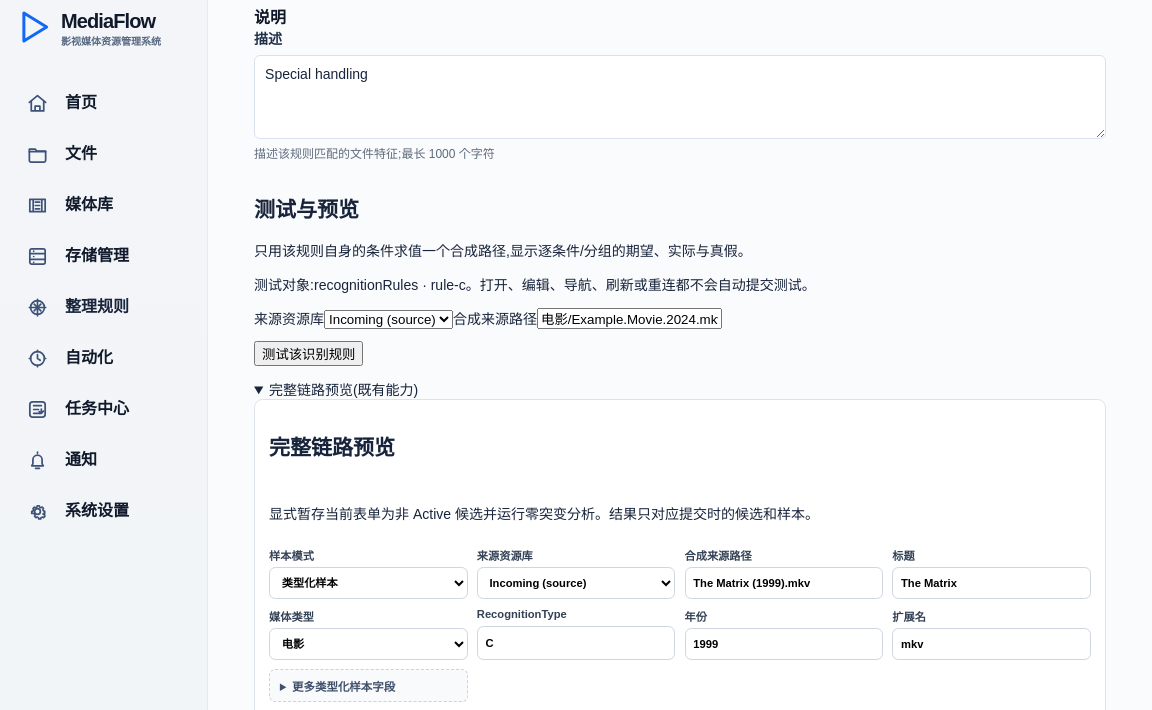
Test: Rules object-scoped local test › tests only the exact unsaved candidate and renders the condition trace
(page scrolled)
expect the heading "测试与预览" is shown: met, box [254,198,359,221]
Click the button "测试该识别规则": point(309, 354) [254,341,363,366]
(page scrolled)
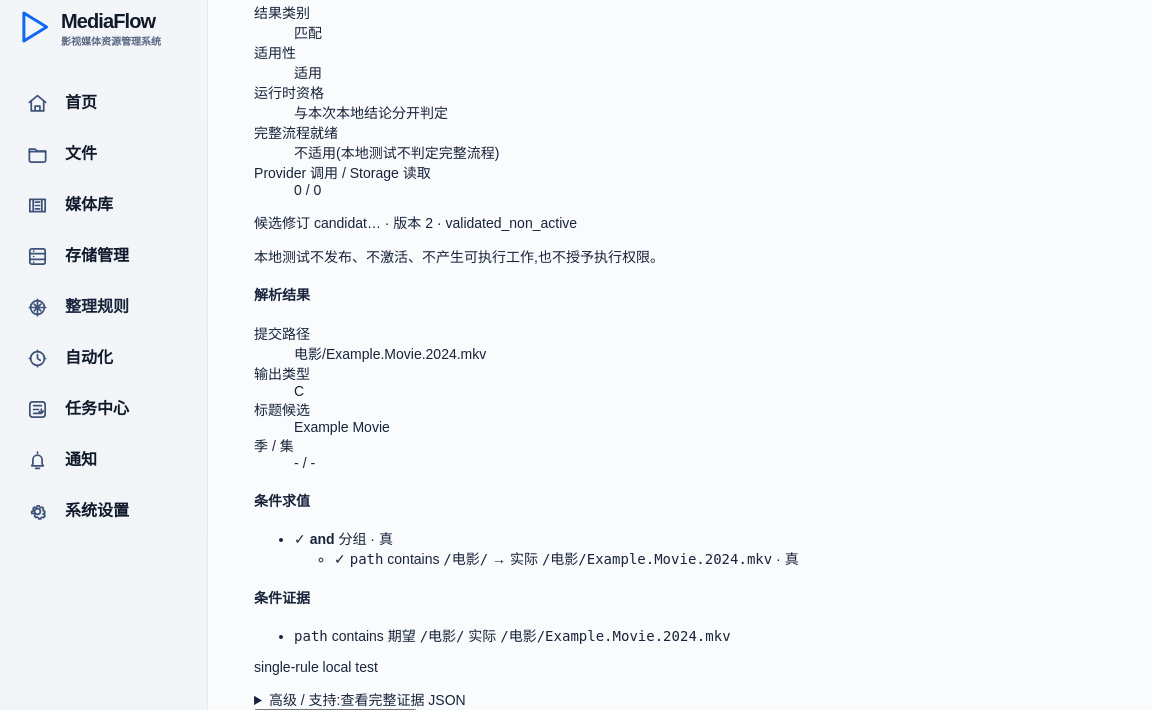
expect the text "path" in the row of "→ 实际" is shown: met, box [350,551,383,567]
expect the list item "✓ path contains /电影/ → 实际 /电影/Example.Movie.2024.mkv · 真" is shown: met, box [334,551,799,567]
expect the text "运行时资格" is shown: met, box [254,85,324,101]
